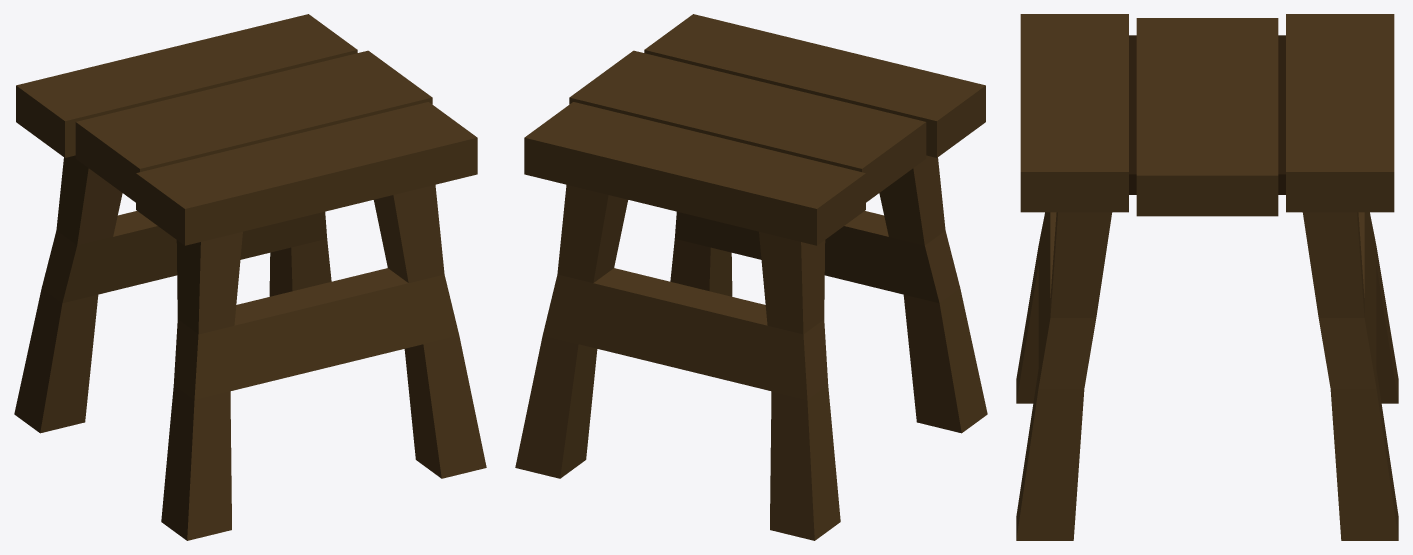
File: Chair.fbx
3 views of the same model, side by side, from view 1: azimuth 30°, elevation 25°; view 2: azimuth 150°, elevation 25°; view 3: azimuth 270°, elevation 25° (orthographic). The views are drawn at different scales.
Visible parts, largest first — view 1: Cube.004; view 2: Cube.004; view 3: Cube.004.
Boxes of the visible parts, box(x1,y1,x2,y2) form: Cube.004: box(14, 14, 486, 540); Cube.004: box(515, 14, 987, 540); Cube.004: box(1016, 14, 1398, 540).
Size of the model in its own units: 1.16 by 1.16 by 1.22.
